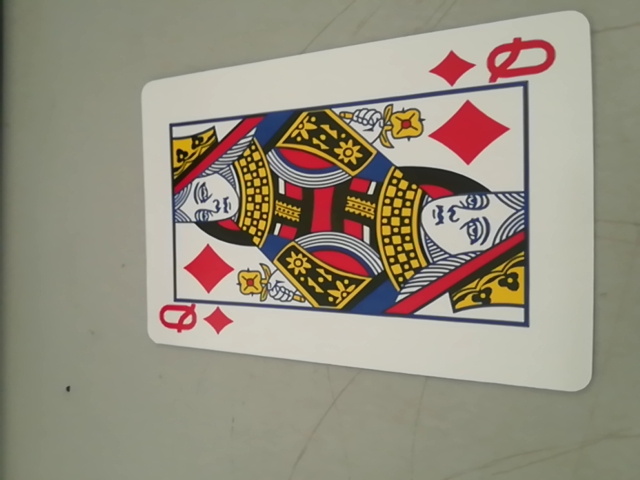fk q: (433, 32, 561, 90), (155, 297, 234, 344)
